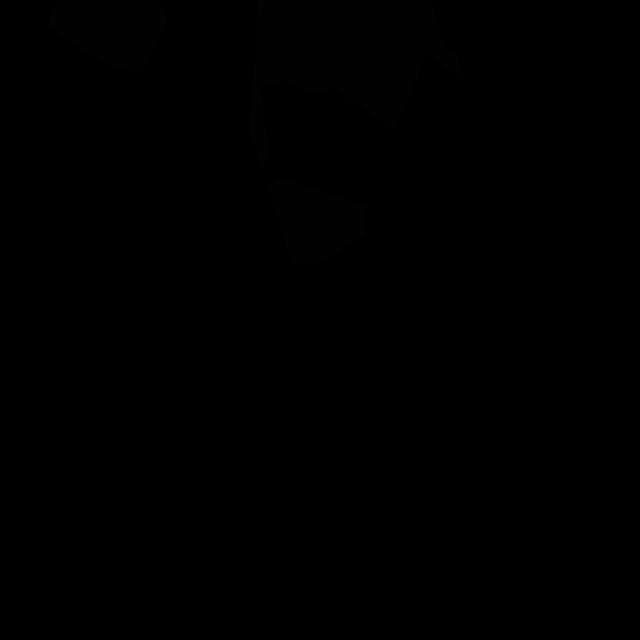cardboard: (250, 0, 463, 170), (268, 177, 373, 266), (47, 0, 168, 73)
